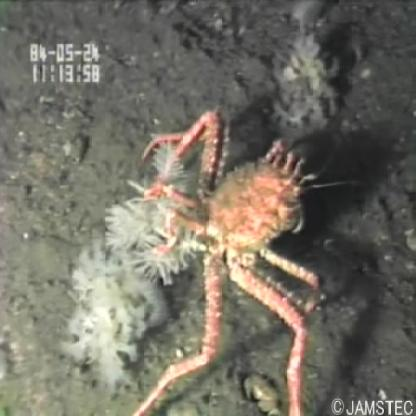Bio: (100, 103, 323, 416)
